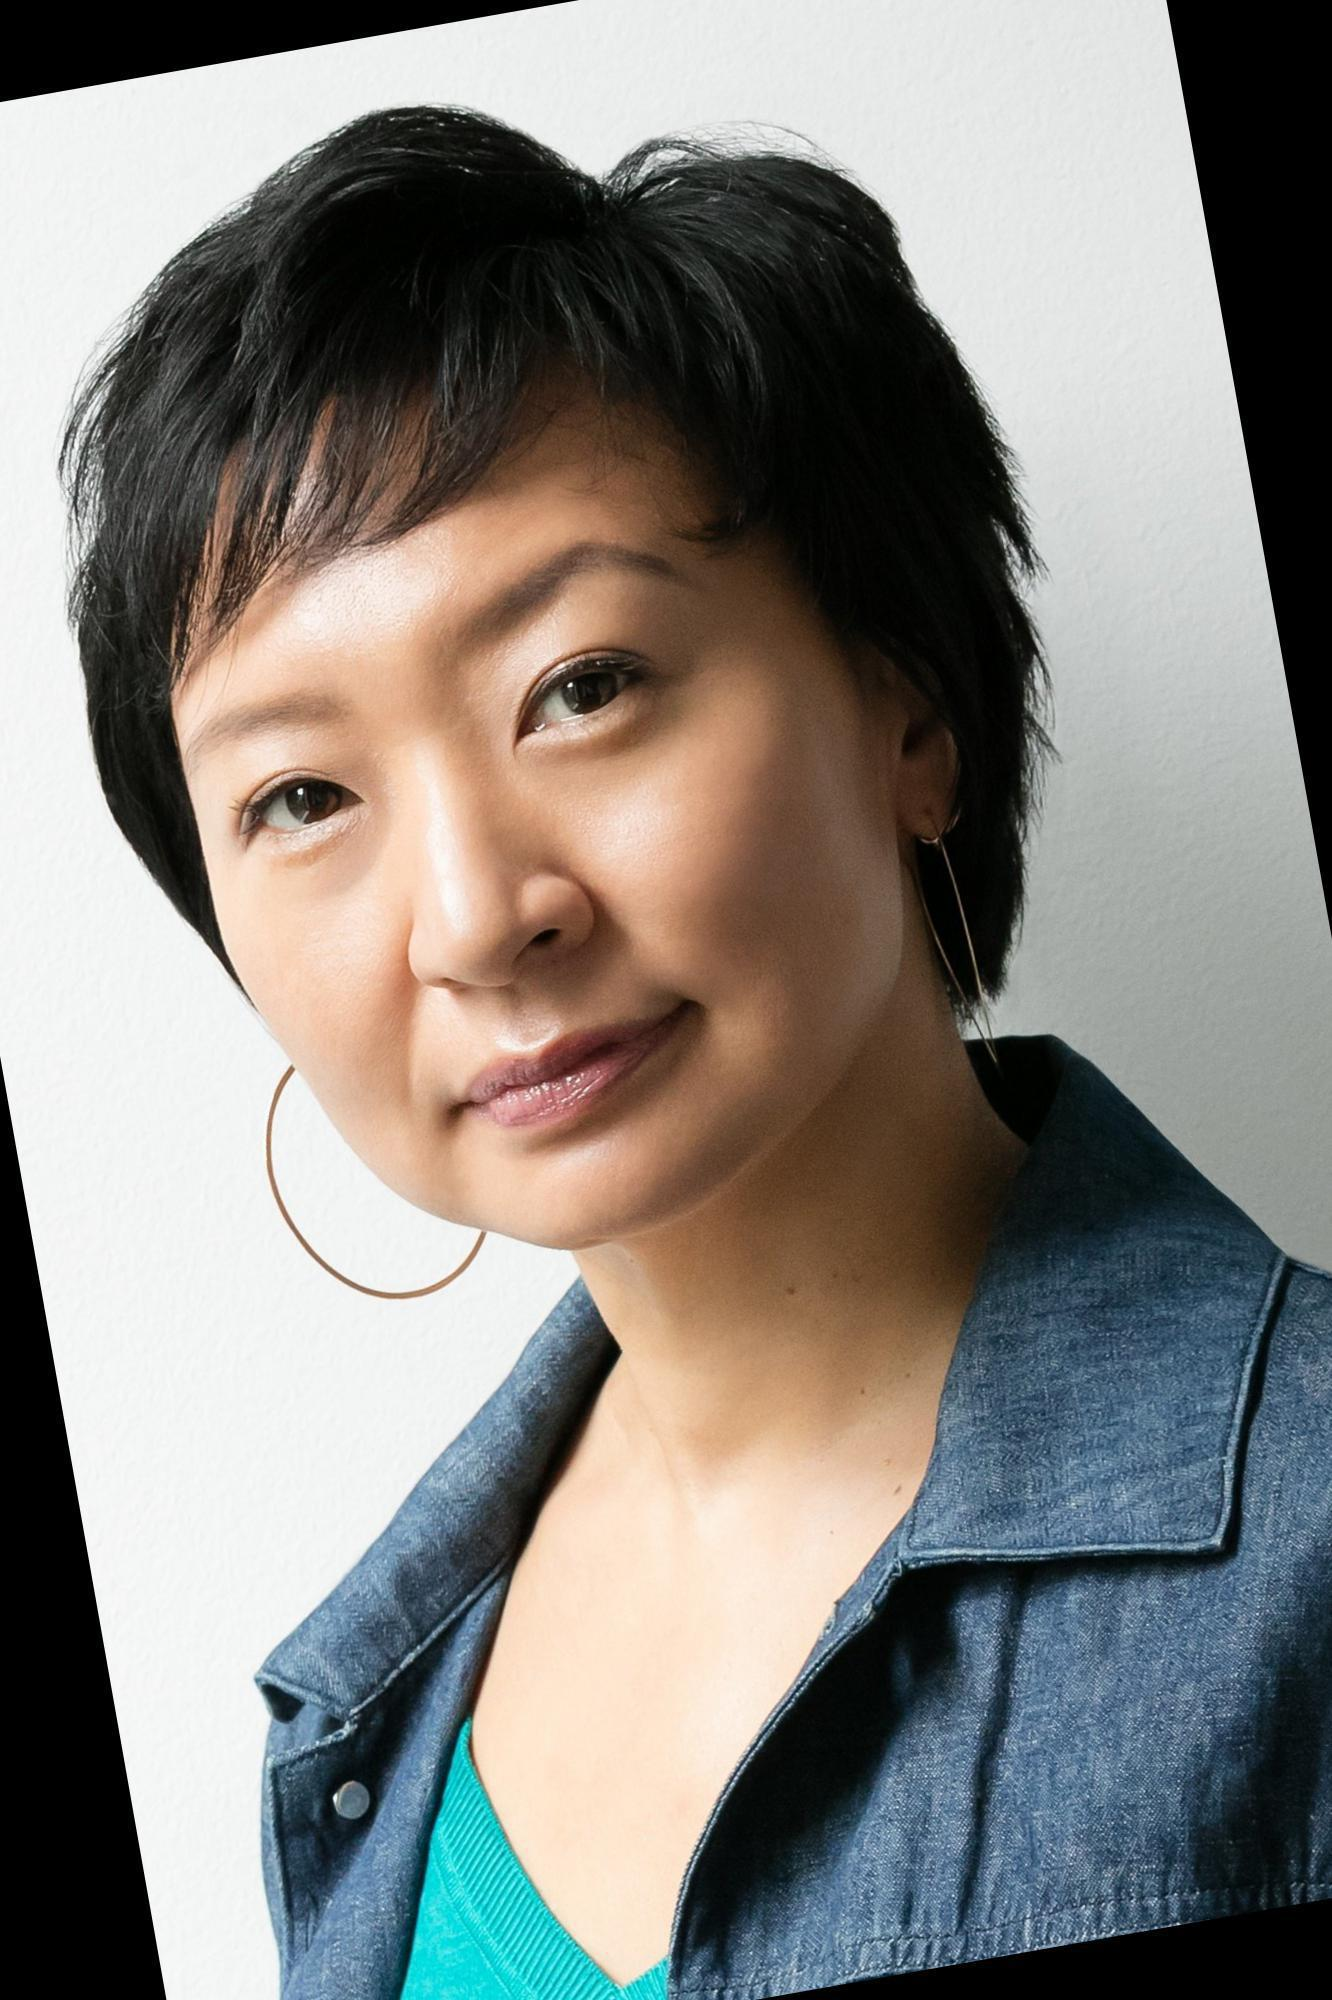Sober: (158, 490, 876, 1238)
